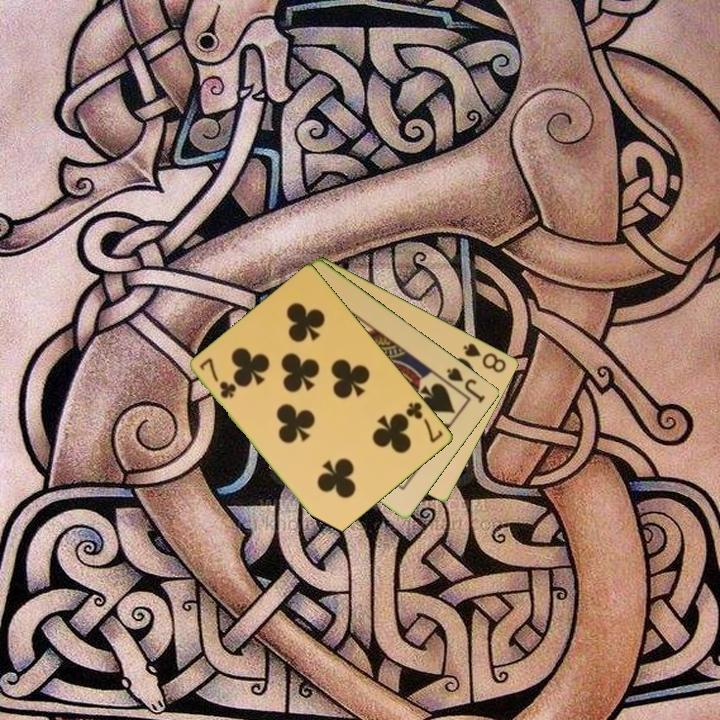7c: (402, 398, 447, 446), (196, 354, 240, 401)
8s: (459, 339, 510, 376)
Js: (443, 364, 488, 406)
